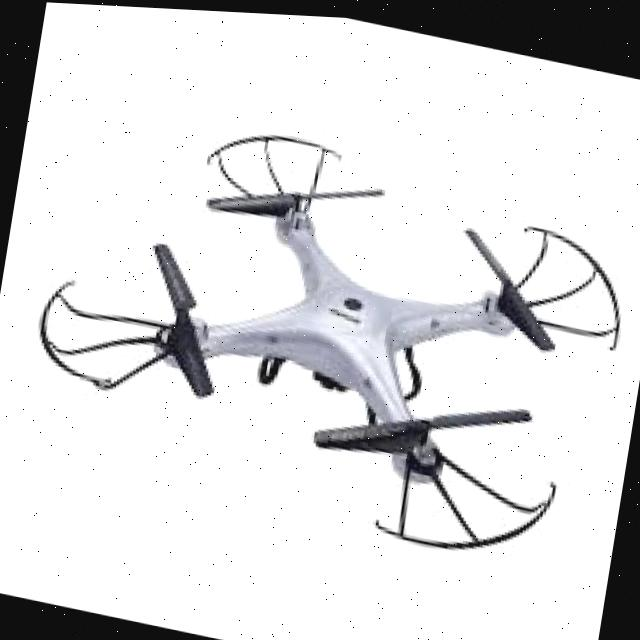drone: (12, 81, 640, 575)
